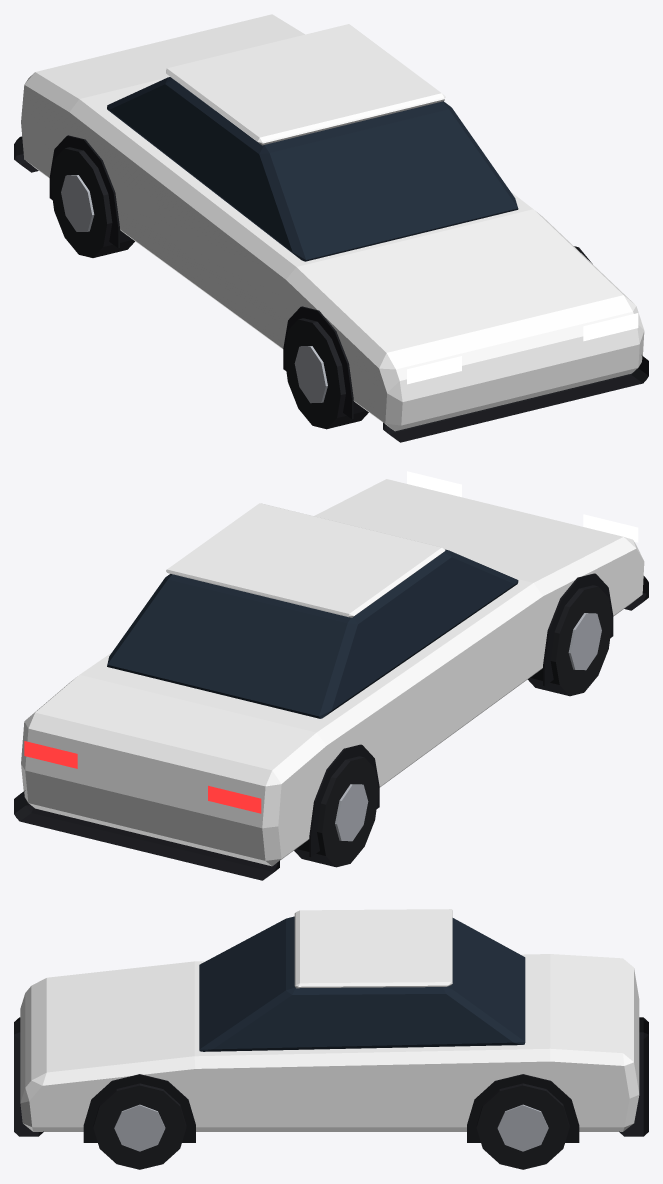
The model's file is sedan.glb.
The picture shows the model from 3 angles, top to bottom: view 1: azimuth 30°, elevation 25°; view 2: azimuth 150°, elevation 25°; view 3: azimuth 270°, elevation 25°; orthographic projection. The views are drawn at different scales.
Visible parts, largest first — view 1: tub, glasshouse, roof, wheel_FL, wheel_RL, bumper_f, wheel_FL_hub, wheel_RL_hub, arch_+1.4_-1, arch_-1.4_-1, lamp_head_R, lamp_head_L; view 2: tub, glasshouse, roof, bumper_r, wheel_RL, wheel_FL, wheel_RL_hub, wheel_FL_hub, arch_-1.4_-1, arch_+1.4_-1, lamp_tail_L, lamp_tail_R (+2 smaller); view 3: tub, glasshouse, roof, wheel_FR, wheel_RR, arch_+1.4_1, arch_-1.4_1, wheel_FR_hub, wheel_RR_hub, bumper_r, bumper_f.
Part boxes in pixels (x1,y1,x2,y2): tub: (21, 14, 644, 431); glasshouse: (107, 77, 518, 261); roof: (166, 24, 445, 145); wheel_FL: (284, 318, 368, 429); wheel_RL: (50, 147, 134, 257); bumper_f: (383, 355, 648, 442); wheel_FL_hub: (294, 346, 327, 403); wheel_RL_hub: (61, 175, 94, 231); arch_+1.4_-1: (283, 306, 353, 419); arch_-1.4_-1: (49, 135, 119, 248); lamp_head_R: (583, 313, 638, 341); lamp_head_L: (407, 356, 461, 384); tub: (21, 479, 644, 866); glasshouse: (107, 549, 518, 718); roof: (166, 503, 445, 617); bumper_r: (14, 790, 279, 880); wheel_RL: (294, 756, 378, 867); wheel_FL: (528, 585, 612, 696); wheel_RL_hub: (335, 784, 368, 841); wheel_FL_hub: (568, 613, 601, 670); arch_-1.4_-1: (309, 744, 379, 857); arch_+1.4_-1: (543, 573, 613, 686); lamp_tail_L: (208, 785, 261, 813); lamp_tail_R: (24, 741, 77, 768); tub: (20, 954, 639, 1131); glasshouse: (199, 916, 525, 1051); roof: (294, 909, 452, 988); wheel_FR: (93, 1083, 186, 1169); wheel_RR: (476, 1083, 569, 1169); arch_+1.4_1: (83, 1074, 195, 1142); arch_-1.4_1: (467, 1074, 579, 1142); wheel_FR_hub: (114, 1104, 165, 1151); wheel_RR_hub: (497, 1104, 548, 1151); bumper_r: (619, 1017, 648, 1136); bumper_f: (14, 1017, 43, 1136).
Bounding box in the file's own units: 1.91 × 1.37 × 4.64.
